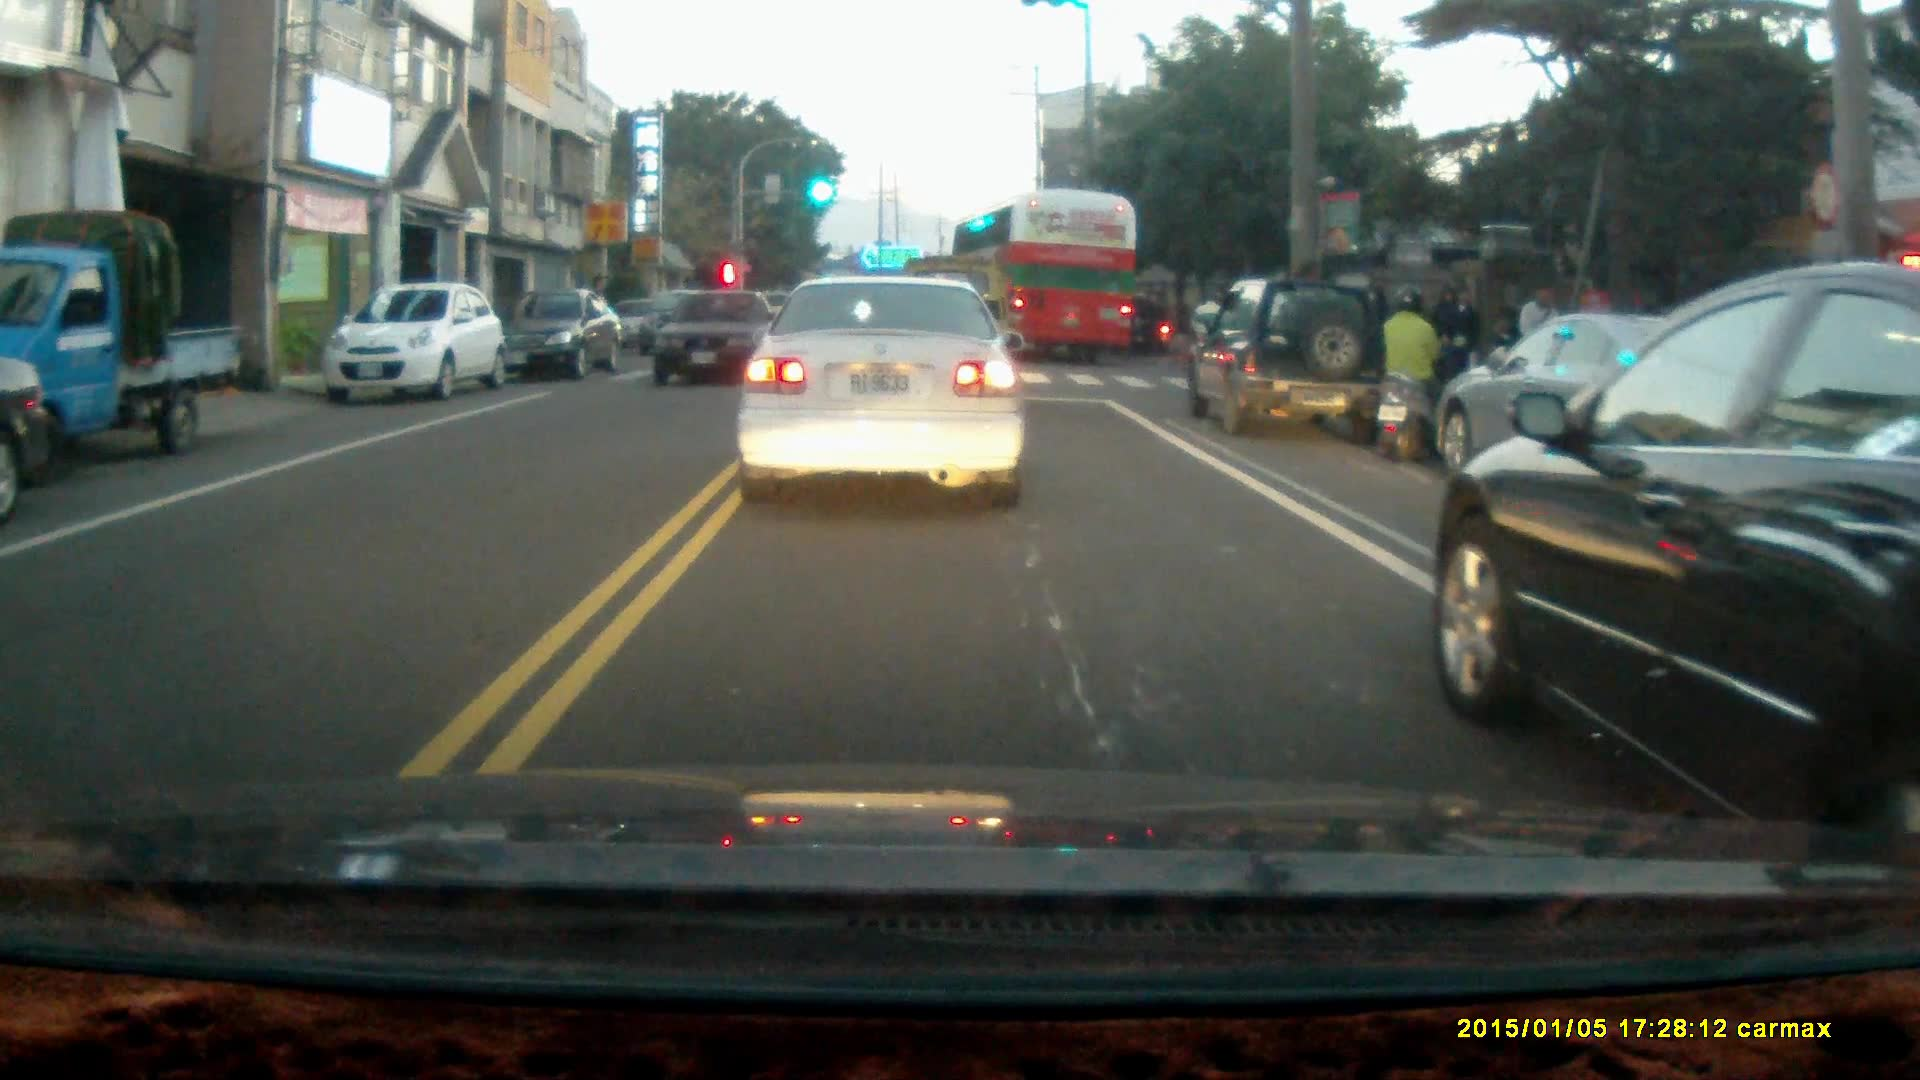pedestrian: (1512, 273, 1564, 389), (1436, 282, 1482, 406)
rider: (1373, 282, 1450, 462), (1115, 293, 1176, 352)
vehicle: (1437, 258, 1920, 829), (731, 270, 1027, 508), (1, 213, 249, 460), (1431, 311, 1768, 481), (1188, 275, 1399, 440), (957, 188, 1140, 363), (327, 284, 502, 402), (653, 291, 775, 391), (507, 286, 626, 379)
